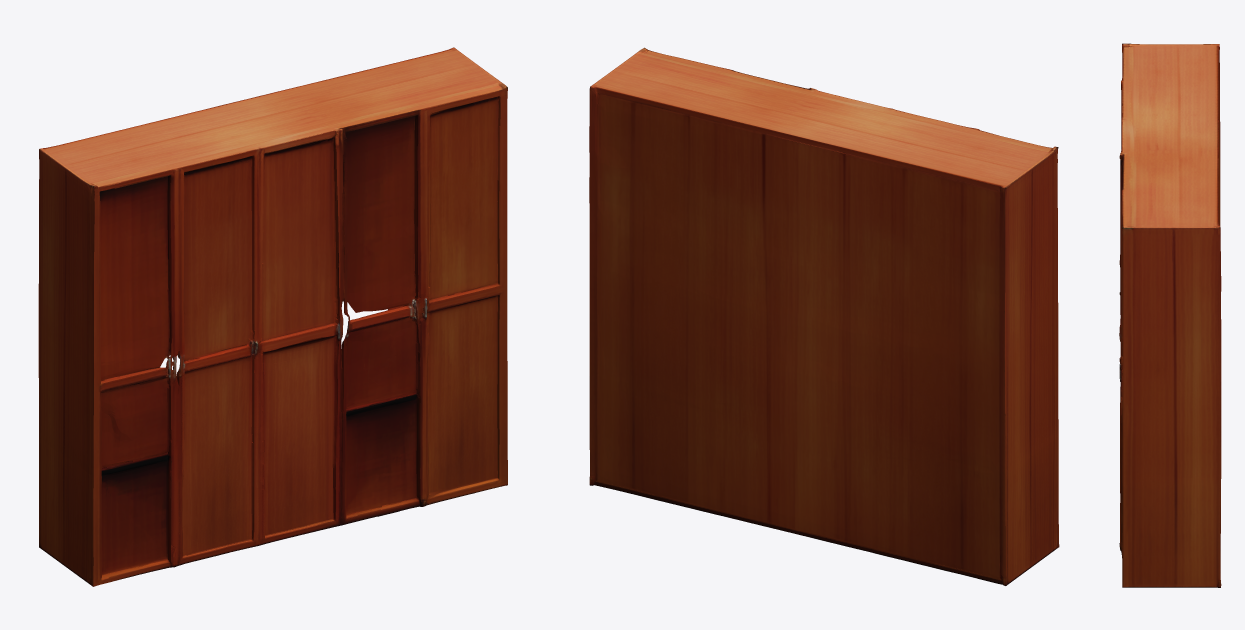
Rendered from editformer.glb.
The picture shows the model from 3 angles, left to right: view 1: azimuth 30°, elevation 25°; view 2: azimuth 150°, elevation 25°; view 3: azimuth 270°, elevation 25°; orthographic projection. The views are drawn at different scales.
Visible parts, largest first — view 1: world; view 2: world; view 3: world.
Boxes of the visible parts, box(x1,y1,x2,y2) form: world: box(38, 47, 507, 586); world: box(589, 47, 1059, 585); world: box(1119, 43, 1221, 587).
Size of the model in its own units: 1.1 by 1.02 by 0.2723.
Materials: 2 (1 with a texture image).
